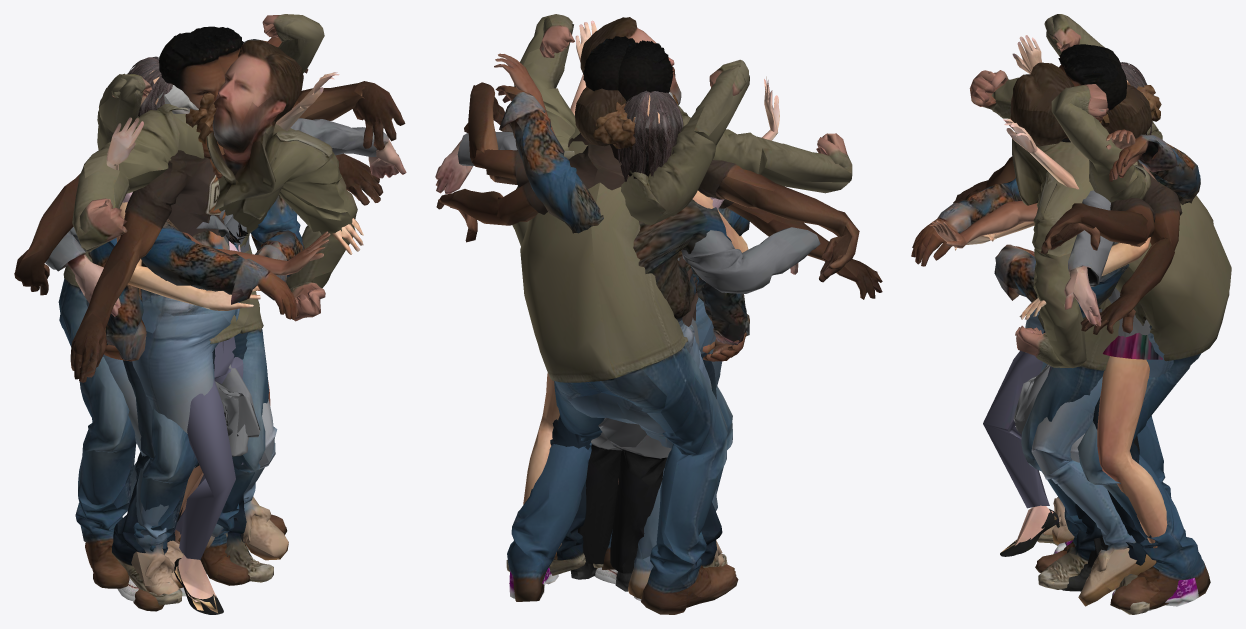
File: club-dancers-hi.glb
3 views of the same model, side by side, from view 1: azimuth 30°, elevation 25°; view 2: azimuth 150°, elevation 25°; view 3: azimuth 270°, elevation 25° (orthographic). The views are drawn at different scales.
Parts seen in each view (by area): view 1: man1_samba, woman1_gina, man2_girl, man1_belly, man2_tifa, belly, woman1_samba, woman2_tifa, samba, gina; view 2: man1_samba, woman2_tifa, man1_belly, man2_girl, woman1_samba, man2_tifa, woman1_gina, samba, belly, gina; view 3: man1_samba, man1_belly, woman1_samba, samba, man2_tifa, man2_girl, belly, woman1_gina, woman2_tifa, gina.
Part boxes in pixels (box(x1,y1,x2,y2)): man1_samba: box(58, 40, 357, 588); woman1_gina: box(131, 39, 308, 595); man2_girl: box(70, 32, 383, 605); man1_belly: box(97, 14, 324, 611); man2_tifa: box(14, 26, 405, 582); belly: box(106, 72, 339, 614); woman1_samba: box(86, 92, 304, 588); woman2_tifa: box(45, 85, 406, 556); samba: box(116, 56, 363, 596); gina: box(117, 37, 330, 601); man1_samba: box(507, 17, 852, 614); woman2_tifa: box(435, 92, 820, 591); man1_belly: box(514, 14, 749, 575); man2_girl: box(436, 40, 882, 575); woman1_samba: box(554, 92, 749, 598); man2_tifa: box(464, 36, 859, 568); woman1_gina: box(495, 85, 749, 569); samba: box(509, 90, 748, 601); belly: box(570, 20, 779, 209); gina: box(494, 53, 618, 584); man1_samba: box(969, 62, 1231, 609); man1_belly: box(1021, 14, 1162, 572); woman1_samba: box(994, 114, 1190, 606); samba: box(953, 62, 1198, 610); man2_tifa: box(1038, 55, 1155, 589); man2_girl: box(953, 44, 1182, 614); belly: box(983, 35, 1078, 556); woman1_gina: box(911, 82, 1200, 541); woman2_tifa: box(1013, 190, 1150, 591); gina: box(929, 129, 1159, 248).
Bounding box in the file's own units: 1.38 × 1.78 × 0.9915.
Materials: 7 (7 with a texture image).
